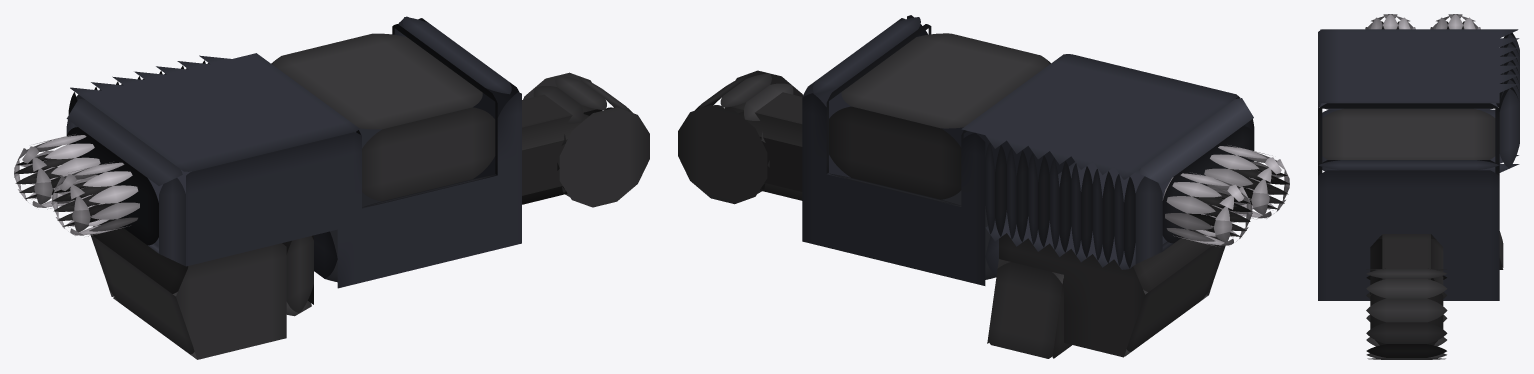
The model's file is Colossus Left Arm.obj.
3 views of the same model, side by side, from view 1: azimuth 30°, elevation 25°; view 2: azimuth 150°, elevation 25°; view 3: azimuth 270°, elevation 25° (orthographic). The views are drawn at different scales.
Visible parts, largest first — view 1: Forearm, cuboid, cylinder, Arm; view 2: Forearm, cuboid, cylinder, Arm; view 3: Forearm, cylinder, Arm.
Boxes of the visible parts, x1,y1,x2,y2 form: Forearm: [66, 16, 521, 288]; cuboid: [90, 219, 313, 359]; cylinder: [14, 72, 649, 236]; Arm: [522, 94, 601, 204]; Forearm: [802, 15, 1254, 285]; cuboid: [987, 230, 1225, 358]; cylinder: [678, 70, 1289, 246]; Arm: [725, 92, 802, 200]; Forearm: [1318, 29, 1519, 300]; cylinder: [1365, 14, 1480, 359]; Arm: [1370, 234, 1443, 345].
Size of the model in its own units: 0.875 by 0.3031 by 0.31.
1 material, 1 textured.
